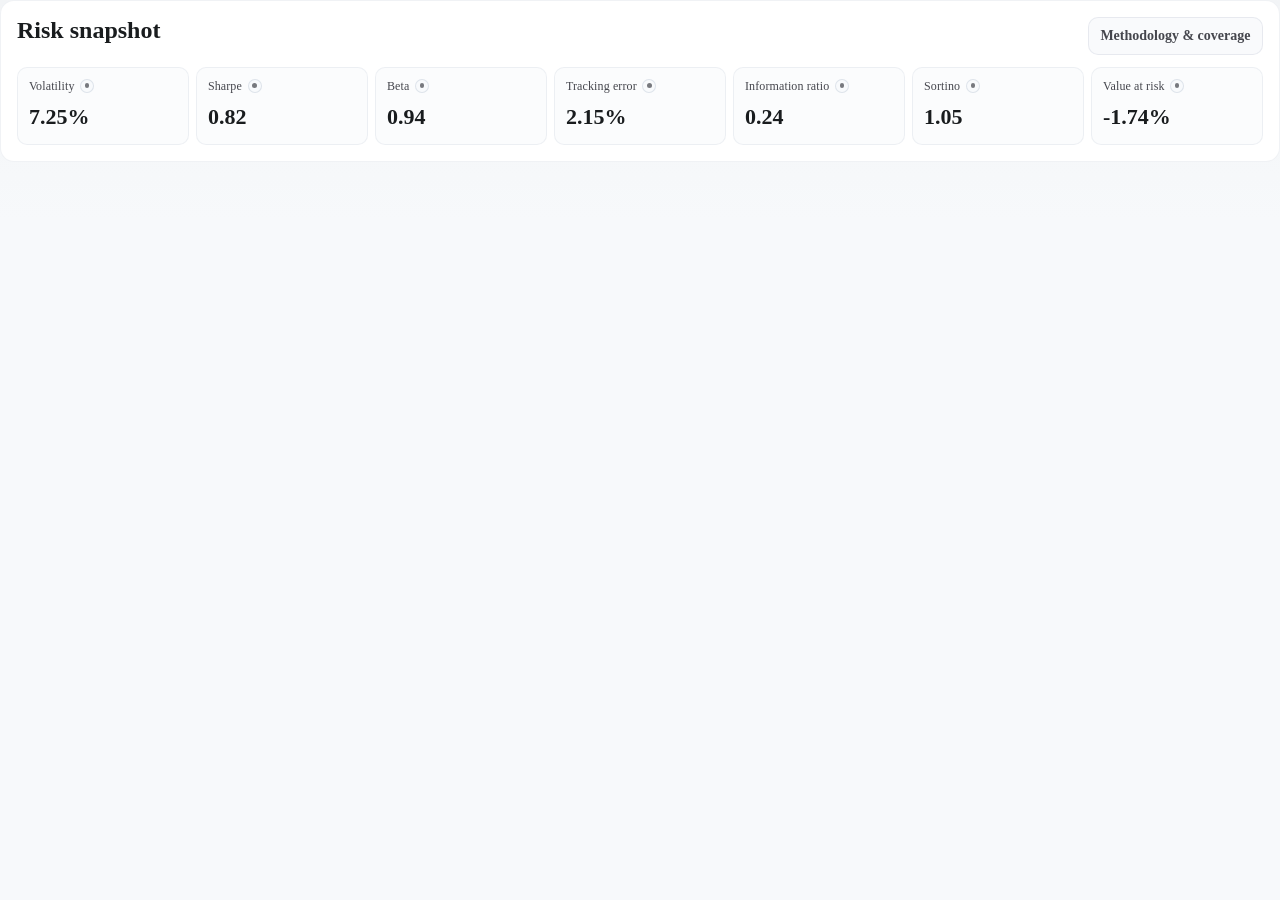
Test: RiskSnapshotPanel › keeps methodology hidden until explicitly requested
Click the button with aria-label "Risk snapshot methodology and coverage": point(1175, 36) [1088,17,1263,55]
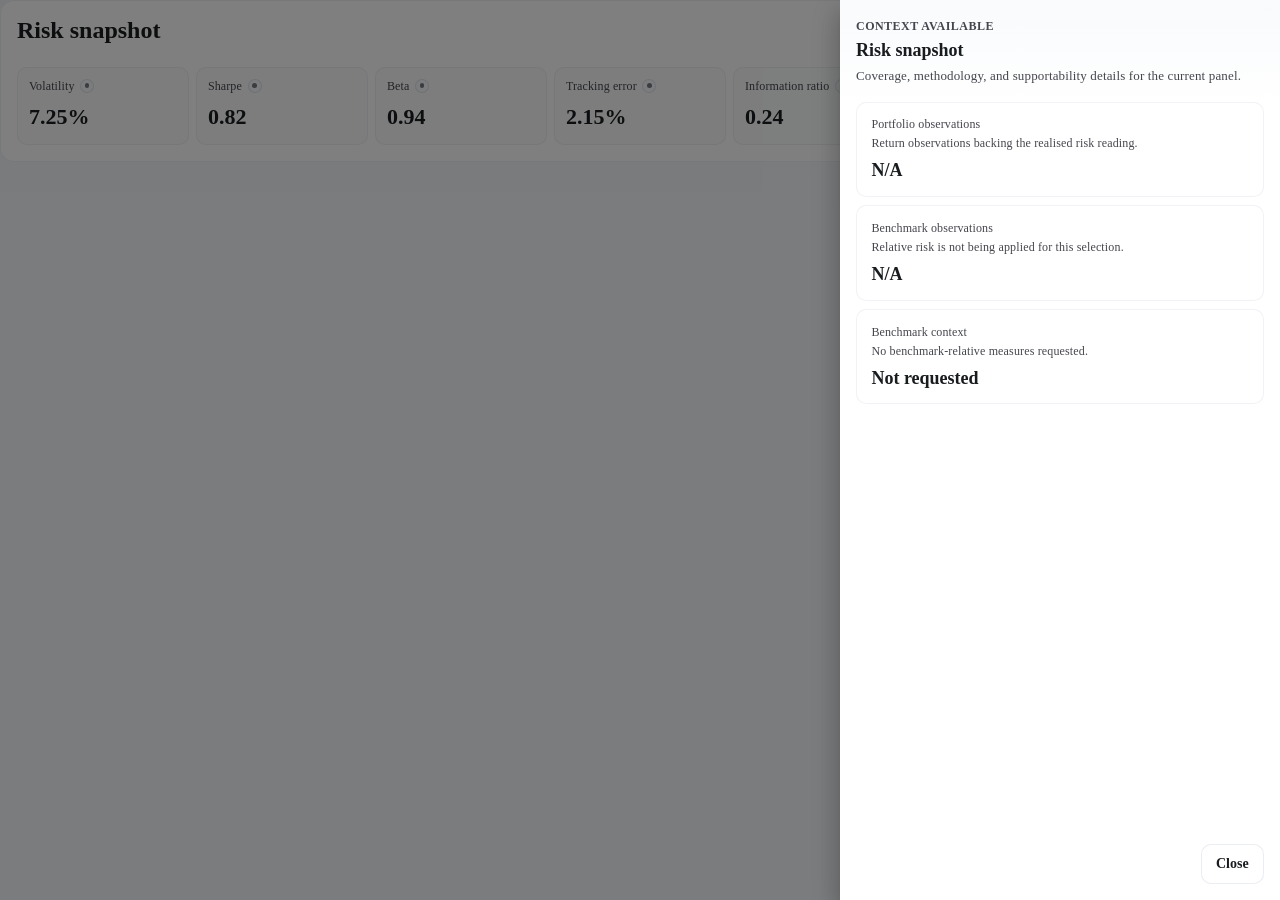
Expected: the dialog named "Risk snapshot methodology and coverage" is shown, [840,0,1279,899]
Expected: the text "Portfolio observations" is shown, [871,117,980,131]
Expected: the text "Benchmark context" is shown, [871,325,967,339]
